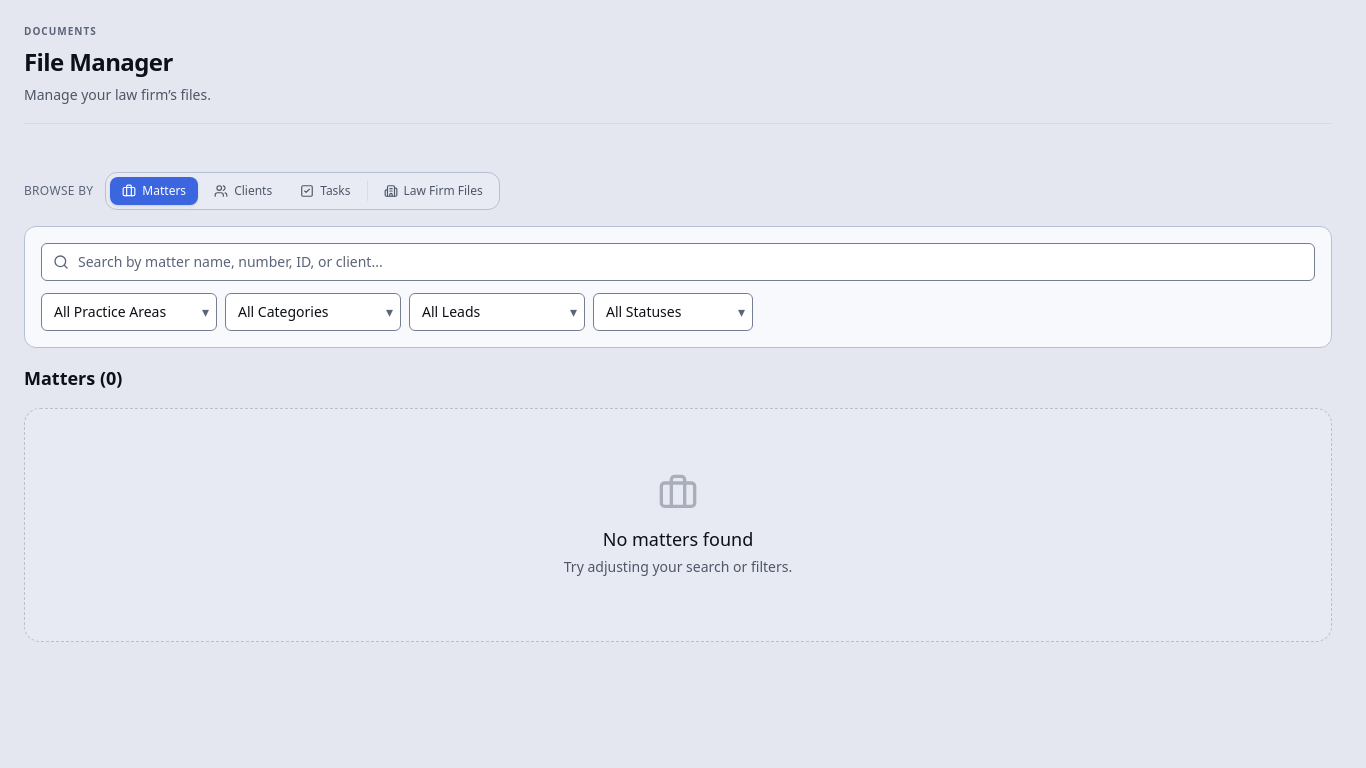
Scenario: a successful action: deleting a file › removes the file from the Law Firm Files listing once the server confirms the delete
Click the button "Law Firm Files".
click(433, 191)  # box x1=372 y1=177 x2=495 y2=205
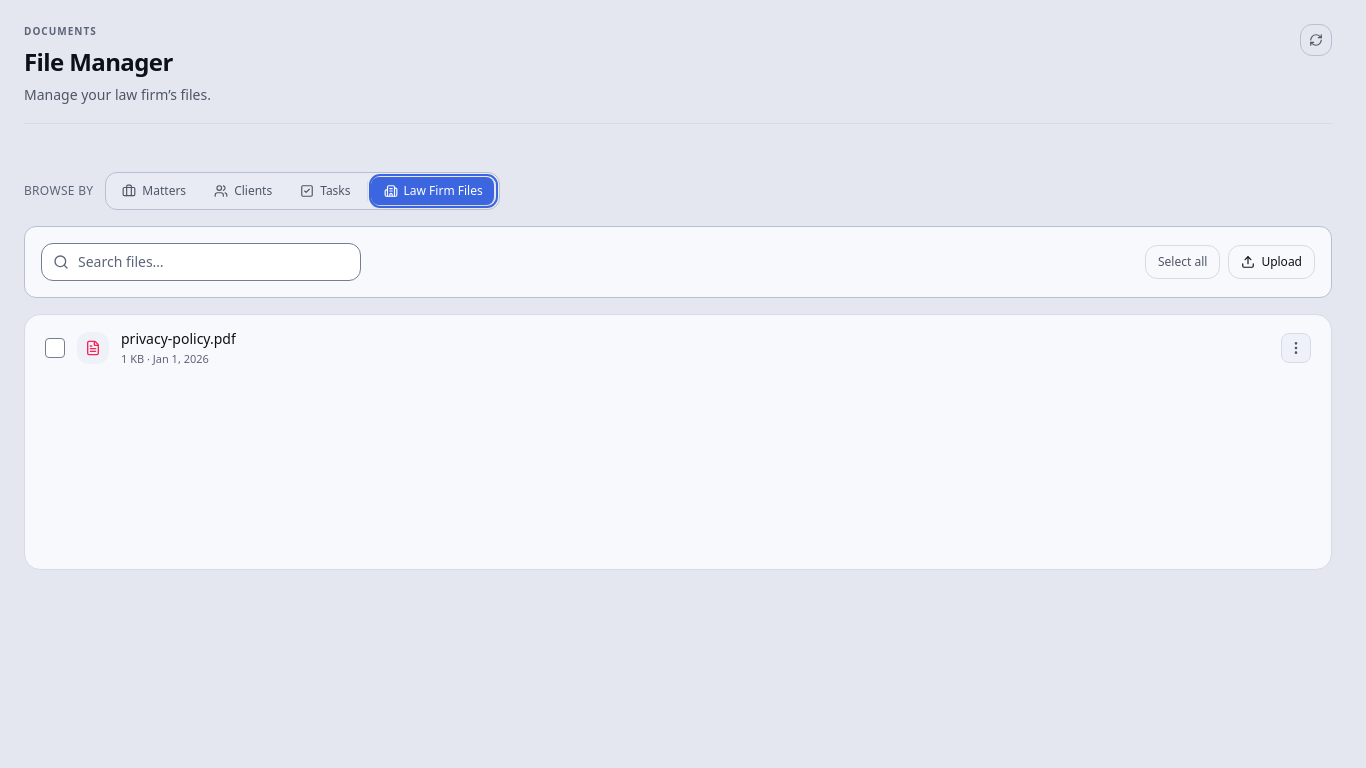
Expected: the text "privacy-policy.pdf" is shown, x1=121 y1=329 x2=236 y2=349
Click the button named "More actions".
click(1296, 348)  # box x1=1281 y1=333 x2=1311 y2=363
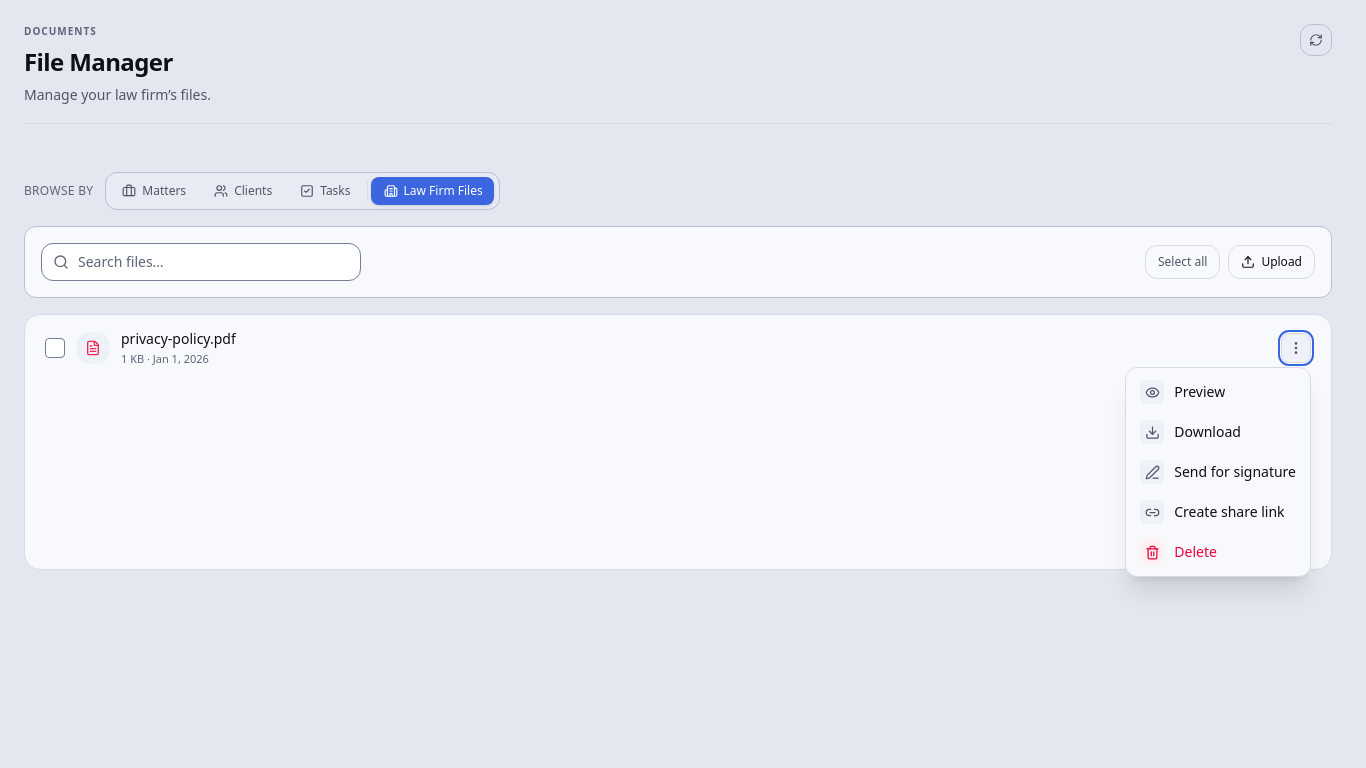
Click the button "Delete".
click(1218, 552)  # box x1=1130 y1=532 x2=1306 y2=572
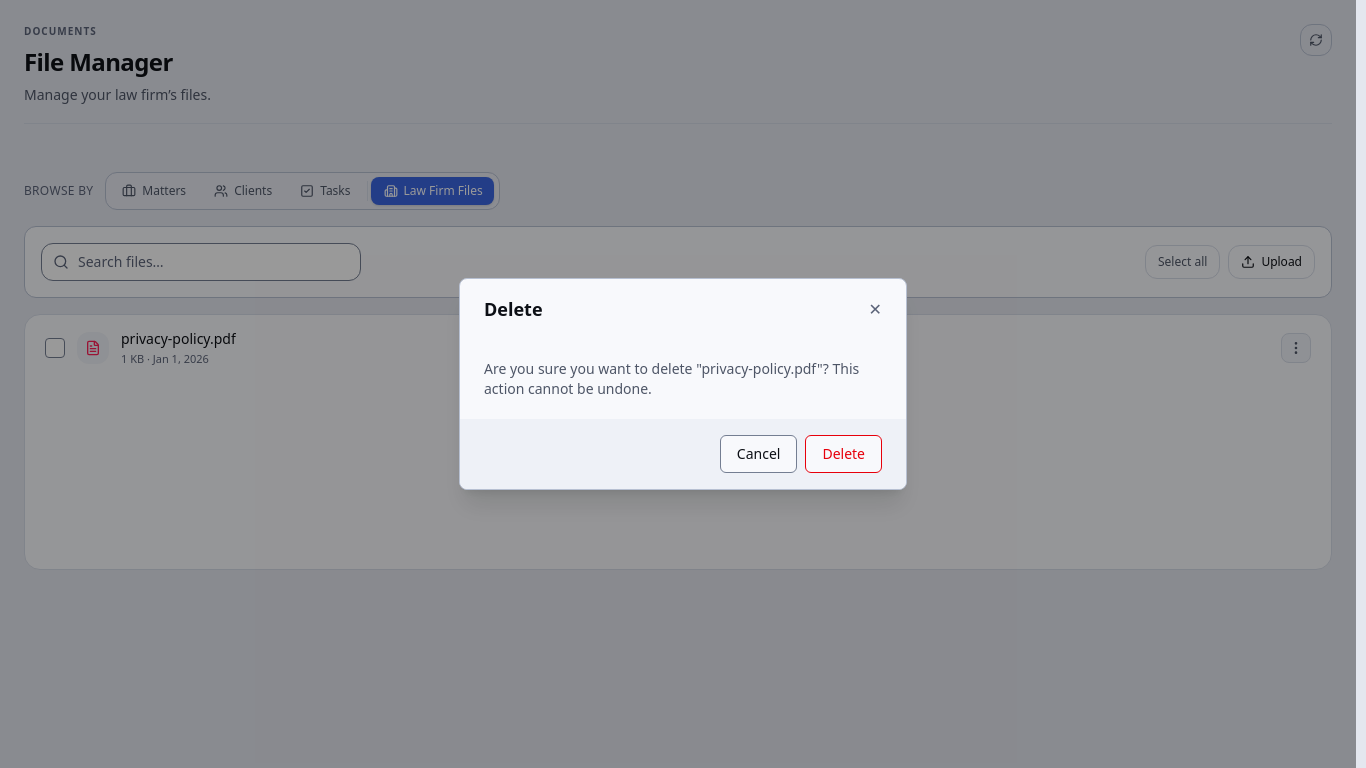
Click the button "Delete".
click(844, 454)  # box x1=805 y1=435 x2=882 y2=473
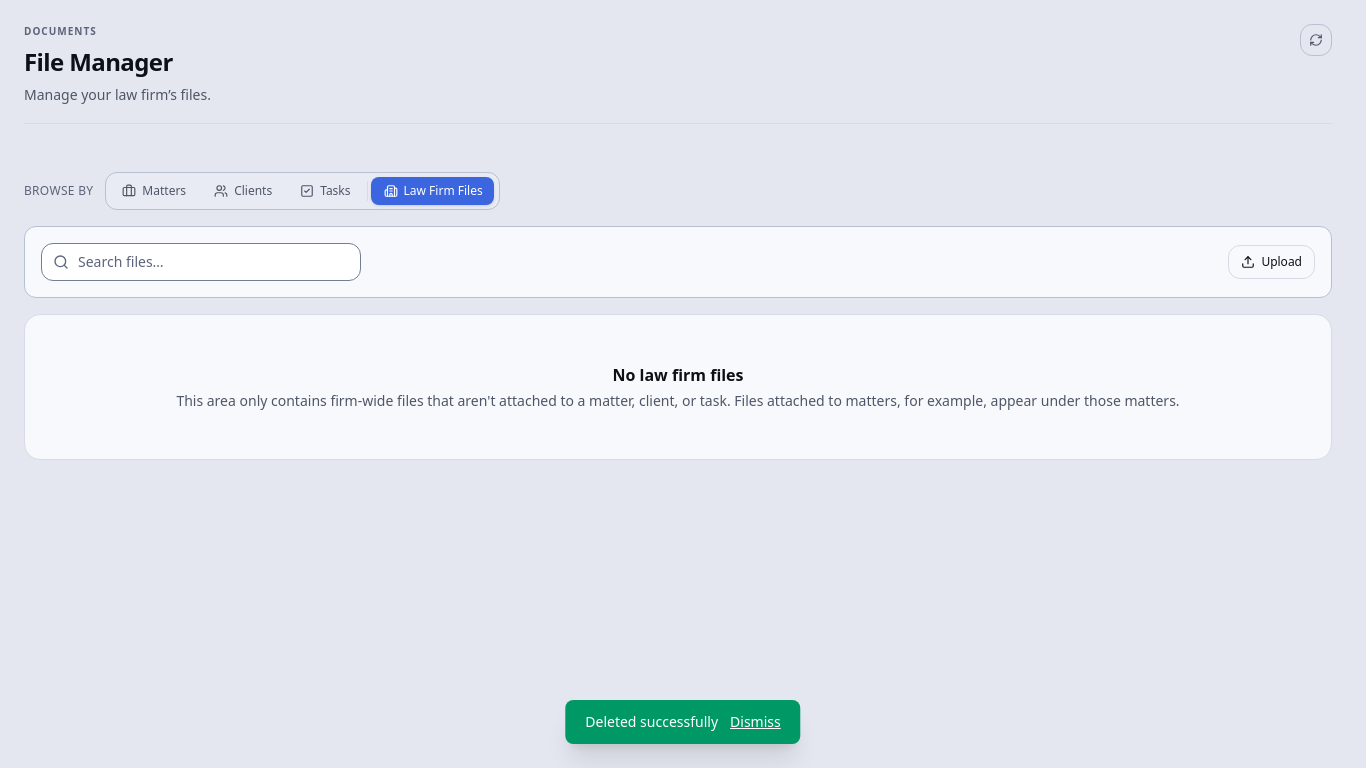
Expected: the text "privacy-policy.pdf" is gone
Expected: the text "Deleted successfully" is shown, x1=585 y1=712 x2=718 y2=731
